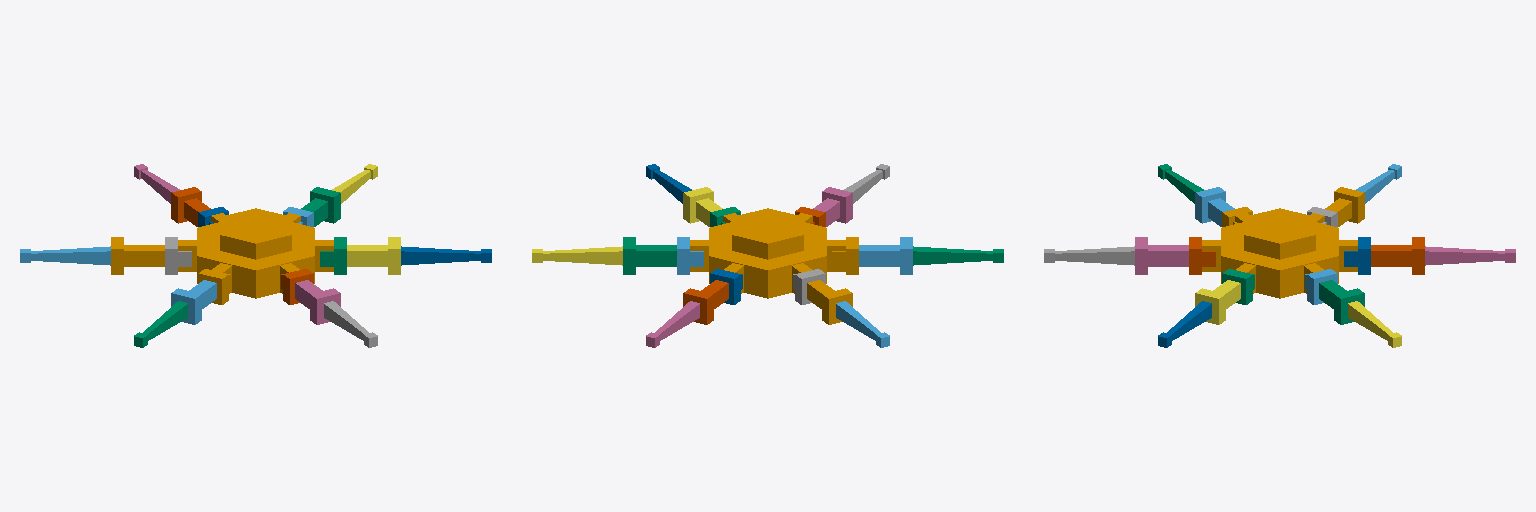
robot.urdf — hexabot:
<?xml version="1.0"?>
<robot name="hexabot">

  <link name="base_link">
    <inertial>
      <origin xyz="0.000000 0.000000 0.000198" rpy="0 0 0"/>
      <mass value="0.91000"/>
      <inertia ixx="2.225367e-03" ixy="0.000000e+00" ixz="2.117582e-22" iyy="2.331530e-03" iyz="-1.058791e-22" izz="4.283359e-03"/>
    </inertial>
    <visual>
      <origin xyz="0 0 0" rpy="0 0 0"/>
      <geometry><mesh filename="meshes/base_link.obj" scale="1 1 1"/></geometry>
    </visual>
    <collision>
      <origin xyz="0.000000 0.000000 0.000000" rpy="0 0 0"/>
      <geometry><cylinder radius="0.086603" length="0.046000"/></geometry>
    </collision>
  </link>

  <link name="coxa_lf">
    <inertial>
      <origin xyz="0.027939 0.000000 0.000000" rpy="0 0 0"/>
      <mass value="0.06376"/>
      <inertia ixx="1.694152e-05" ixy="0.000000e+00" ixz="0.000000e+00" iyy="1.299192e-05" iyz="0.000000e+00" izz="1.222196e-05"/>
    </inertial>
    <visual>
      <origin xyz="0 0 0" rpy="0 0 0"/>
      <geometry><mesh filename="meshes/coxa.obj" scale="1 1 1"/></geometry>
    </visual>
    <collision>
      <origin xyz="0.015000 0.000000 0.000000" rpy="0 0 0"/>
      <geometry><box size="0.040000 0.040700 0.024000"/></geometry>
    </collision>
  </link>
  <link name="femur_lf">
    <inertial>
      <origin xyz="0.068790 0.000000 0.000000" rpy="0 0 0"/>
      <mass value="0.07642"/>
      <inertia ixx="1.809764e-05" ixy="0.000000e+00" ixz="0.000000e+00" iyy="4.750428e-05" iyz="0.000000e+00" izz="4.631867e-05"/>
    </inertial>
    <visual>
      <origin xyz="0 0 0" rpy="0 0 0"/>
      <geometry><mesh filename="meshes/femur.obj" scale="1 1 1"/></geometry>
    </visual>
    <collision>
      <origin xyz="0.040000 0.000000 0.000000" rpy="0 0 0"/>
      <geometry><box size="0.080000 0.022000 0.026000"/></geometry>
    </collision>
  </link>
  <link name="tibia_lf">
    <inertial>
      <origin xyz="0.071930 0.000000 0.000000" rpy="0 0 0"/>
      <mass value="0.02921"/>
      <inertia ixx="2.128821e-06" ixy="0.000000e+00" ixz="0.000000e+00" iyy="5.100513e-05" iyz="0.000000e+00" izz="5.043196e-05"/>
    </inertial>
    <visual>
      <origin xyz="0 0 0" rpy="0 0 0"/>
      <geometry><mesh filename="meshes/tibia.obj" scale="1 1 1"/></geometry>
    </visual>
    <collision>
      <origin xyz="0.067500 0.000000 0.000000" rpy="0 0 0"/>
      <geometry><box size="0.135000 0.018000 0.024000"/></geometry>
    </collision>
    <collision>
      <origin xyz="0.135000 0.000000 0.000000" rpy="0 0 0"/>
      <geometry><box size="0.016000 0.016000 0.016000"/></geometry>
    </collision>
  </link>

  <link name="coxa_lm">
    <inertial>
      <origin xyz="0.027939 0.000000 0.000000" rpy="0 0 0"/>
      <mass value="0.06376"/>
      <inertia ixx="1.694152e-05" ixy="0.000000e+00" ixz="0.000000e+00" iyy="1.299192e-05" iyz="0.000000e+00" izz="1.222196e-05"/>
    </inertial>
    <visual>
      <origin xyz="0 0 0" rpy="0 0 0"/>
      <geometry><mesh filename="meshes/coxa.obj" scale="1 1 1"/></geometry>
    </visual>
    <collision>
      <origin xyz="0.015000 0.000000 0.000000" rpy="0 0 0"/>
      <geometry><box size="0.040000 0.040700 0.024000"/></geometry>
    </collision>
  </link>
  <link name="femur_lm">
    <inertial>
      <origin xyz="0.068790 0.000000 0.000000" rpy="0 0 0"/>
      <mass value="0.07642"/>
      <inertia ixx="1.809764e-05" ixy="0.000000e+00" ixz="0.000000e+00" iyy="4.750428e-05" iyz="0.000000e+00" izz="4.631867e-05"/>
    </inertial>
    <visual>
      <origin xyz="0 0 0" rpy="0 0 0"/>
      <geometry><mesh filename="meshes/femur.obj" scale="1 1 1"/></geometry>
    </visual>
    <collision>
      <origin xyz="0.040000 0.000000 0.000000" rpy="0 0 0"/>
      <geometry><box size="0.080000 0.022000 0.026000"/></geometry>
    </collision>
  </link>
  <link name="tibia_lm">
    <inertial>
      <origin xyz="0.071930 0.000000 0.000000" rpy="0 0 0"/>
      <mass value="0.02921"/>
      <inertia ixx="2.128821e-06" ixy="0.000000e+00" ixz="0.000000e+00" iyy="5.100513e-05" iyz="0.000000e+00" izz="5.043196e-05"/>
    </inertial>
    <visual>
      <origin xyz="0 0 0" rpy="0 0 0"/>
      <geometry><mesh filename="meshes/tibia.obj" scale="1 1 1"/></geometry>
    </visual>
    <collision>
      <origin xyz="0.067500 0.000000 0.000000" rpy="0 0 0"/>
      <geometry><box size="0.135000 0.018000 0.024000"/></geometry>
    </collision>
    <collision>
      <origin xyz="0.135000 0.000000 0.000000" rpy="0 0 0"/>
      <geometry><box size="0.016000 0.016000 0.016000"/></geometry>
    </collision>
  </link>

  <link name="coxa_lr">
    <inertial>
      <origin xyz="0.027939 0.000000 0.000000" rpy="0 0 0"/>
      <mass value="0.06376"/>
      <inertia ixx="1.694152e-05" ixy="0.000000e+00" ixz="0.000000e+00" iyy="1.299192e-05" iyz="0.000000e+00" izz="1.222196e-05"/>
    </inertial>
    <visual>
      <origin xyz="0 0 0" rpy="0 0 0"/>
      <geometry><mesh filename="meshes/coxa.obj" scale="1 1 1"/></geometry>
    </visual>
    <collision>
      <origin xyz="0.015000 0.000000 0.000000" rpy="0 0 0"/>
      <geometry><box size="0.040000 0.040700 0.024000"/></geometry>
    </collision>
  </link>
  <link name="femur_lr">
    <inertial>
      <origin xyz="0.068790 0.000000 0.000000" rpy="0 0 0"/>
      <mass value="0.07642"/>
      <inertia ixx="1.809764e-05" ixy="0.000000e+00" ixz="0.000000e+00" iyy="4.750428e-05" iyz="0.000000e+00" izz="4.631867e-05"/>
    </inertial>
    <visual>
      <origin xyz="0 0 0" rpy="0 0 0"/>
      <geometry><mesh filename="meshes/femur.obj" scale="1 1 1"/></geometry>
    </visual>
    <collision>
      <origin xyz="0.040000 0.000000 0.000000" rpy="0 0 0"/>
      <geometry><box size="0.080000 0.022000 0.026000"/></geometry>
    </collision>
  </link>
  <link name="tibia_lr">
    <inertial>
      <origin xyz="0.071930 0.000000 0.000000" rpy="0 0 0"/>
      <mass value="0.02921"/>
      <inertia ixx="2.128821e-06" ixy="0.000000e+00" ixz="0.000000e+00" iyy="5.100513e-05" iyz="0.000000e+00" izz="5.043196e-05"/>
    </inertial>
    <visual>
      <origin xyz="0 0 0" rpy="0 0 0"/>
      <geometry><mesh filename="meshes/tibia.obj" scale="1 1 1"/></geometry>
    </visual>
    <collision>
      <origin xyz="0.067500 0.000000 0.000000" rpy="0 0 0"/>
      <geometry><box size="0.135000 0.018000 0.024000"/></geometry>
    </collision>
    <collision>
      <origin xyz="0.135000 0.000000 0.000000" rpy="0 0 0"/>
      <geometry><box size="0.016000 0.016000 0.016000"/></geometry>
    </collision>
  </link>

  <link name="coxa_rf">
    <inertial>
      <origin xyz="0.027939 0.000000 0.000000" rpy="0 0 0"/>
      <mass value="0.06376"/>
      <inertia ixx="1.694152e-05" ixy="0.000000e+00" ixz="0.000000e+00" iyy="1.299192e-05" iyz="0.000000e+00" izz="1.222196e-05"/>
    </inertial>
    <visual>
      <origin xyz="0 0 0" rpy="0 0 0"/>
      <geometry><mesh filename="meshes/coxa.obj" scale="1 1 1"/></geometry>
    </visual>
    <collision>
      <origin xyz="0.015000 0.000000 0.000000" rpy="0 0 0"/>
      <geometry><box size="0.040000 0.040700 0.024000"/></geometry>
    </collision>
  </link>
  <link name="femur_rf">
    <inertial>
      <origin xyz="0.068790 0.000000 0.000000" rpy="0 0 0"/>
      <mass value="0.07642"/>
      <inertia ixx="1.809764e-05" ixy="0.000000e+00" ixz="0.000000e+00" iyy="4.750428e-05" iyz="0.000000e+00" izz="4.631867e-05"/>
    </inertial>
    <visual>
      <origin xyz="0 0 0" rpy="0 0 0"/>
      <geometry><mesh filename="meshes/femur.obj" scale="1 1 1"/></geometry>
    </visual>
    <collision>
      <origin xyz="0.040000 0.000000 0.000000" rpy="0 0 0"/>
      <geometry><box size="0.080000 0.022000 0.026000"/></geometry>
    </collision>
  </link>
  <link name="tibia_rf">
    <inertial>
      <origin xyz="0.071930 0.000000 0.000000" rpy="0 0 0"/>
      <mass value="0.02921"/>
      <inertia ixx="2.128821e-06" ixy="0.000000e+00" ixz="0.000000e+00" iyy="5.100513e-05" iyz="0.000000e+00" izz="5.043196e-05"/>
    </inertial>
    <visual>
      <origin xyz="0 0 0" rpy="0 0 0"/>
      <geometry><mesh filename="meshes/tibia.obj" scale="1 1 1"/></geometry>
    </visual>
    <collision>
      <origin xyz="0.067500 0.000000 0.000000" rpy="0 0 0"/>
      <geometry><box size="0.135000 0.018000 0.024000"/></geometry>
    </collision>
    <collision>
      <origin xyz="0.135000 0.000000 0.000000" rpy="0 0 0"/>
      <geometry><box size="0.016000 0.016000 0.016000"/></geometry>
    </collision>
  </link>

  <link name="coxa_rm">
    <inertial>
      <origin xyz="0.027939 0.000000 0.000000" rpy="0 0 0"/>
      <mass value="0.06376"/>
      <inertia ixx="1.694152e-05" ixy="0.000000e+00" ixz="0.000000e+00" iyy="1.299192e-05" iyz="0.000000e+00" izz="1.222196e-05"/>
    </inertial>
    <visual>
      <origin xyz="0 0 0" rpy="0 0 0"/>
      <geometry><mesh filename="meshes/coxa.obj" scale="1 1 1"/></geometry>
    </visual>
    <collision>
      <origin xyz="0.015000 0.000000 0.000000" rpy="0 0 0"/>
      <geometry><box size="0.040000 0.040700 0.024000"/></geometry>
    </collision>
  </link>
  <link name="femur_rm">
    <inertial>
      <origin xyz="0.068790 0.000000 0.000000" rpy="0 0 0"/>
      <mass value="0.07642"/>
      <inertia ixx="1.809764e-05" ixy="0.000000e+00" ixz="0.000000e+00" iyy="4.750428e-05" iyz="0.000000e+00" izz="4.631867e-05"/>
    </inertial>
    <visual>
      <origin xyz="0 0 0" rpy="0 0 0"/>
      <geometry><mesh filename="meshes/femur.obj" scale="1 1 1"/></geometry>
    </visual>
    <collision>
      <origin xyz="0.040000 0.000000 0.000000" rpy="0 0 0"/>
      <geometry><box size="0.080000 0.022000 0.026000"/></geometry>
    </collision>
  </link>
  <link name="tibia_rm">
    <inertial>
      <origin xyz="0.071930 0.000000 0.000000" rpy="0 0 0"/>
      <mass value="0.02921"/>
      <inertia ixx="2.128821e-06" ixy="0.000000e+00" ixz="0.000000e+00" iyy="5.100513e-05" iyz="0.000000e+00" izz="5.043196e-05"/>
    </inertial>
    <visual>
      <origin xyz="0 0 0" rpy="0 0 0"/>
      <geometry><mesh filename="meshes/tibia.obj" scale="1 1 1"/></geometry>
    </visual>
    <collision>
      <origin xyz="0.067500 0.000000 0.000000" rpy="0 0 0"/>
      <geometry><box size="0.135000 0.018000 0.024000"/></geometry>
    </collision>
    <collision>
      <origin xyz="0.135000 0.000000 0.000000" rpy="0 0 0"/>
      <geometry><box size="0.016000 0.016000 0.016000"/></geometry>
    </collision>
  </link>

  <link name="coxa_rr">
    <inertial>
      <origin xyz="0.027939 0.000000 0.000000" rpy="0 0 0"/>
      <mass value="0.06376"/>
      <inertia ixx="1.694152e-05" ixy="0.000000e+00" ixz="0.000000e+00" iyy="1.299192e-05" iyz="0.000000e+00" izz="1.222196e-05"/>
    </inertial>
    <visual>
      <origin xyz="0 0 0" rpy="0 0 0"/>
      <geometry><mesh filename="meshes/coxa.obj" scale="1 1 1"/></geometry>
    </visual>
    <collision>
      <origin xyz="0.015000 0.000000 0.000000" rpy="0 0 0"/>
      <geometry><box size="0.040000 0.040700 0.024000"/></geometry>
    </collision>
  </link>
  <link name="femur_rr">
    <inertial>
      <origin xyz="0.068790 0.000000 0.000000" rpy="0 0 0"/>
      <mass value="0.07642"/>
      <inertia ixx="1.809764e-05" ixy="0.000000e+00" ixz="0.000000e+00" iyy="4.750428e-05" iyz="0.000000e+00" izz="4.631867e-05"/>
    </inertial>
    <visual>
      <origin xyz="0 0 0" rpy="0 0 0"/>
      <geometry><mesh filename="meshes/femur.obj" scale="1 1 1"/></geometry>
    </visual>
    <collision>
      <origin xyz="0.040000 0.000000 0.000000" rpy="0 0 0"/>
      <geometry><box size="0.080000 0.022000 0.026000"/></geometry>
    </collision>
  </link>
  <link name="tibia_rr">
    <inertial>
      <origin xyz="0.071930 0.000000 0.000000" rpy="0 0 0"/>
      <mass value="0.02921"/>
      <inertia ixx="2.128821e-06" ixy="0.000000e+00" ixz="0.000000e+00" iyy="5.100513e-05" iyz="0.000000e+00" izz="5.043196e-05"/>
    </inertial>
    <visual>
      <origin xyz="0 0 0" rpy="0 0 0"/>
      <geometry><mesh filename="meshes/tibia.obj" scale="1 1 1"/></geometry>
    </visual>
    <collision>
      <origin xyz="0.067500 0.000000 0.000000" rpy="0 0 0"/>
      <geometry><box size="0.135000 0.018000 0.024000"/></geometry>
    </collision>
    <collision>
      <origin xyz="0.135000 0.000000 0.000000" rpy="0 0 0"/>
      <geometry><box size="0.016000 0.016000 0.016000"/></geometry>
    </collision>
  </link>

  <joint name="coxa_lf" type="revolute">
    <parent link="base_link"/>
    <child link="coxa_lf"/>
    <origin xyz="0.082272 0.047500 0.000000" rpy="0.000000 0.000000 0.523599"/>
    <axis xyz="0 0 1"/>
    <limit lower="-0.6000" upper="0.6000" effort="1.08" velocity="6.16"/>
    <dynamics damping="0.05" friction="0.0"/>
  </joint>
  <joint name="femur_lf" type="revolute">
    <parent link="coxa_lf"/>
    <child link="femur_lf"/>
    <origin xyz="0.030000 0.000000 0.000000" rpy="0.000000 0.000000 0.000000"/>
    <axis xyz="0 1 0"/>
    <limit lower="-1.0500" upper="1.0500" effort="1.08" velocity="6.16"/>
    <dynamics damping="0.05" friction="0.0"/>
  </joint>
  <joint name="tibia_lf" type="revolute">
    <parent link="femur_lf"/>
    <child link="tibia_lf"/>
    <origin xyz="0.080000 0.000000 0.000000" rpy="0.000000 0.000000 0.000000"/>
    <axis xyz="0 1 0"/>
    <limit lower="-1.5500" upper="1.4000" effort="1.08" velocity="6.16"/>
    <dynamics damping="0.05" friction="0.0"/>
  </joint>

  <joint name="coxa_lm" type="revolute">
    <parent link="base_link"/>
    <child link="coxa_lm"/>
    <origin xyz="0.000000 0.095000 0.000000" rpy="0.000000 0.000000 1.570796"/>
    <axis xyz="0 0 1"/>
    <limit lower="-0.6000" upper="0.6000" effort="1.08" velocity="6.16"/>
    <dynamics damping="0.05" friction="0.0"/>
  </joint>
  <joint name="femur_lm" type="revolute">
    <parent link="coxa_lm"/>
    <child link="femur_lm"/>
    <origin xyz="0.030000 0.000000 0.000000" rpy="0.000000 0.000000 0.000000"/>
    <axis xyz="0 1 0"/>
    <limit lower="-1.0500" upper="1.0500" effort="1.08" velocity="6.16"/>
    <dynamics damping="0.05" friction="0.0"/>
  </joint>
  <joint name="tibia_lm" type="revolute">
    <parent link="femur_lm"/>
    <child link="tibia_lm"/>
    <origin xyz="0.080000 0.000000 0.000000" rpy="0.000000 0.000000 0.000000"/>
    <axis xyz="0 1 0"/>
    <limit lower="-1.5500" upper="1.4000" effort="1.08" velocity="6.16"/>
    <dynamics damping="0.05" friction="0.0"/>
  </joint>

  <joint name="coxa_lr" type="revolute">
    <parent link="base_link"/>
    <child link="coxa_lr"/>
    <origin xyz="-0.082272 0.047500 0.000000" rpy="0.000000 0.000000 2.617994"/>
    <axis xyz="0 0 1"/>
    <limit lower="-0.6000" upper="0.6000" effort="1.08" velocity="6.16"/>
    <dynamics damping="0.05" friction="0.0"/>
  </joint>
  <joint name="femur_lr" type="revolute">
    <parent link="coxa_lr"/>
    <child link="femur_lr"/>
    <origin xyz="0.030000 0.000000 0.000000" rpy="0.000000 0.000000 0.000000"/>
    <axis xyz="0 1 0"/>
    <limit lower="-1.0500" upper="1.0500" effort="1.08" velocity="6.16"/>
    <dynamics damping="0.05" friction="0.0"/>
  </joint>
  <joint name="tibia_lr" type="revolute">
    <parent link="femur_lr"/>
    <child link="tibia_lr"/>
    <origin xyz="0.080000 0.000000 0.000000" rpy="0.000000 0.000000 0.000000"/>
    <axis xyz="0 1 0"/>
    <limit lower="-1.5500" upper="1.4000" effort="1.08" velocity="6.16"/>
    <dynamics damping="0.05" friction="0.0"/>
  </joint>

  <joint name="coxa_rf" type="revolute">
    <parent link="base_link"/>
    <child link="coxa_rf"/>
    <origin xyz="0.082272 -0.047500 0.000000" rpy="0.000000 0.000000 -0.523599"/>
    <axis xyz="0 0 1"/>
    <limit lower="-0.6000" upper="0.6000" effort="1.08" velocity="6.16"/>
    <dynamics damping="0.05" friction="0.0"/>
  </joint>
  <joint name="femur_rf" type="revolute">
    <parent link="coxa_rf"/>
    <child link="femur_rf"/>
    <origin xyz="0.030000 0.000000 0.000000" rpy="0.000000 0.000000 0.000000"/>
    <axis xyz="0 1 0"/>
    <limit lower="-1.0500" upper="1.0500" effort="1.08" velocity="6.16"/>
    <dynamics damping="0.05" friction="0.0"/>
  </joint>
  <joint name="tibia_rf" type="revolute">
    <parent link="femur_rf"/>
    <child link="tibia_rf"/>
    <origin xyz="0.080000 0.000000 0.000000" rpy="0.000000 0.000000 0.000000"/>
    <axis xyz="0 1 0"/>
    <limit lower="-1.5500" upper="1.4000" effort="1.08" velocity="6.16"/>
    <dynamics damping="0.05" friction="0.0"/>
  </joint>

  <joint name="coxa_rm" type="revolute">
    <parent link="base_link"/>
    <child link="coxa_rm"/>
    <origin xyz="0.000000 -0.095000 0.000000" rpy="0.000000 0.000000 -1.570796"/>
    <axis xyz="0 0 1"/>
    <limit lower="-0.6000" upper="0.6000" effort="1.08" velocity="6.16"/>
    <dynamics damping="0.05" friction="0.0"/>
  </joint>
  <joint name="femur_rm" type="revolute">
    <parent link="coxa_rm"/>
    <child link="femur_rm"/>
    <origin xyz="0.030000 0.000000 0.000000" rpy="0.000000 0.000000 0.000000"/>
    <axis xyz="0 1 0"/>
    <limit lower="-1.0500" upper="1.0500" effort="1.08" velocity="6.16"/>
    <dynamics damping="0.05" friction="0.0"/>
  </joint>
  <joint name="tibia_rm" type="revolute">
    <parent link="femur_rm"/>
    <child link="tibia_rm"/>
    <origin xyz="0.080000 0.000000 0.000000" rpy="0.000000 0.000000 0.000000"/>
    <axis xyz="0 1 0"/>
    <limit lower="-1.5500" upper="1.4000" effort="1.08" velocity="6.16"/>
    <dynamics damping="0.05" friction="0.0"/>
  </joint>

  <joint name="coxa_rr" type="revolute">
    <parent link="base_link"/>
    <child link="coxa_rr"/>
    <origin xyz="-0.082272 -0.047500 0.000000" rpy="0.000000 0.000000 -2.617994"/>
    <axis xyz="0 0 1"/>
    <limit lower="-0.6000" upper="0.6000" effort="1.08" velocity="6.16"/>
    <dynamics damping="0.05" friction="0.0"/>
  </joint>
  <joint name="femur_rr" type="revolute">
    <parent link="coxa_rr"/>
    <child link="femur_rr"/>
    <origin xyz="0.030000 0.000000 0.000000" rpy="0.000000 0.000000 0.000000"/>
    <axis xyz="0 1 0"/>
    <limit lower="-1.0500" upper="1.0500" effort="1.08" velocity="6.16"/>
    <dynamics damping="0.05" friction="0.0"/>
  </joint>
  <joint name="tibia_rr" type="revolute">
    <parent link="femur_rr"/>
    <child link="tibia_rr"/>
    <origin xyz="0.080000 0.000000 0.000000" rpy="0.000000 0.000000 0.000000"/>
    <axis xyz="0 1 0"/>
    <limit lower="-1.5500" upper="1.4000" effort="1.08" velocity="6.16"/>
    <dynamics damping="0.05" friction="0.0"/>
  </joint>

</robot>

--- What the picture shows (computed from the rendered views, not written in the file) ---
The picture shows the robot from 3 angles, left to right: view 1: azimuth 30°, elevation 25°; view 2: azimuth 150°, elevation 25°; view 3: azimuth 270°, elevation 25°; orthographic projection.
Model hexabot with 19 links and 18 joints (18 revolute), rooted at base_link, posed every joint at zero.
Links seen in each view (by area): view 1: base_link, femur_lr, femur_rf, tibia_lr, tibia_rf, femur_rm, femur_rr, femur_lf, femur_lm, tibia_rm, tibia_rr, coxa_lr (+5 smaller); view 2: base_link, femur_lf, femur_rr, tibia_lf, tibia_rr, femur_lm, femur_lr, femur_rf, femur_rm, tibia_lm, tibia_lr, coxa_lf (+5 smaller); view 3: base_link, femur_lm, femur_rm, tibia_lm, tibia_rm, femur_lf, femur_rf, femur_lr, femur_rr, tibia_lf, tibia_rf, coxa_lm (+5 smaller).
Link boxes in pixels (left/top/right/bottom): base_link: left=178, top=208, right=333, bottom=298; femur_lr: left=111, top=237, right=164, bottom=274; femur_rf: left=347, top=237, right=400, bottom=274; tibia_lr: left=20, top=246, right=110, bottom=265; tibia_rf: left=401, top=246, right=491, bottom=265; femur_rm: left=295, top=280, right=340, bottom=324; femur_rr: left=171, top=280, right=216, bottom=324; femur_lf: left=301, top=187, right=340, bottom=226; femur_lm: left=171, top=187, right=210, bottom=226; tibia_rm: left=324, top=301, right=377, bottom=347; tibia_rr: left=134, top=301, right=187, bottom=347; coxa_lr: left=165, top=237, right=191, bottom=274; base_link: left=690, top=208, right=845, bottom=298; femur_lf: left=623, top=237, right=676, bottom=274; femur_rr: left=859, top=237, right=912, bottom=274; tibia_lf: left=532, top=246, right=622, bottom=265; tibia_rr: left=913, top=246, right=1003, bottom=265; femur_lm: left=683, top=280, right=728, bottom=324; femur_lr: left=807, top=280, right=852, bottom=324; femur_rf: left=683, top=187, right=722, bottom=226; femur_rm: left=813, top=187, right=852, bottom=226; tibia_lm: left=646, top=301, right=699, bottom=347; tibia_lr: left=836, top=301, right=889, bottom=347; coxa_lf: left=677, top=237, right=703, bottom=274; base_link: left=1202, top=208, right=1357, bottom=298; femur_lm: left=1371, top=237, right=1424, bottom=274; femur_rm: left=1135, top=237, right=1188, bottom=274; tibia_lm: left=1425, top=246, right=1515, bottom=265; tibia_rm: left=1044, top=246, right=1134, bottom=265; femur_lf: left=1319, top=280, right=1364, bottom=324; femur_rf: left=1195, top=280, right=1240, bottom=324; femur_lr: left=1325, top=187, right=1364, bottom=226; femur_rr: left=1195, top=187, right=1234, bottom=226; tibia_lf: left=1348, top=301, right=1401, bottom=347; tibia_rf: left=1158, top=301, right=1211, bottom=347; coxa_lm: left=1344, top=237, right=1370, bottom=274.
Bounding box of the posed robot: 0.6108 × 0.696 × 0.072 m (x, y, z).
Meshes: 4 distinct files referenced, 19 mesh visuals loaded (4 OBJ).
